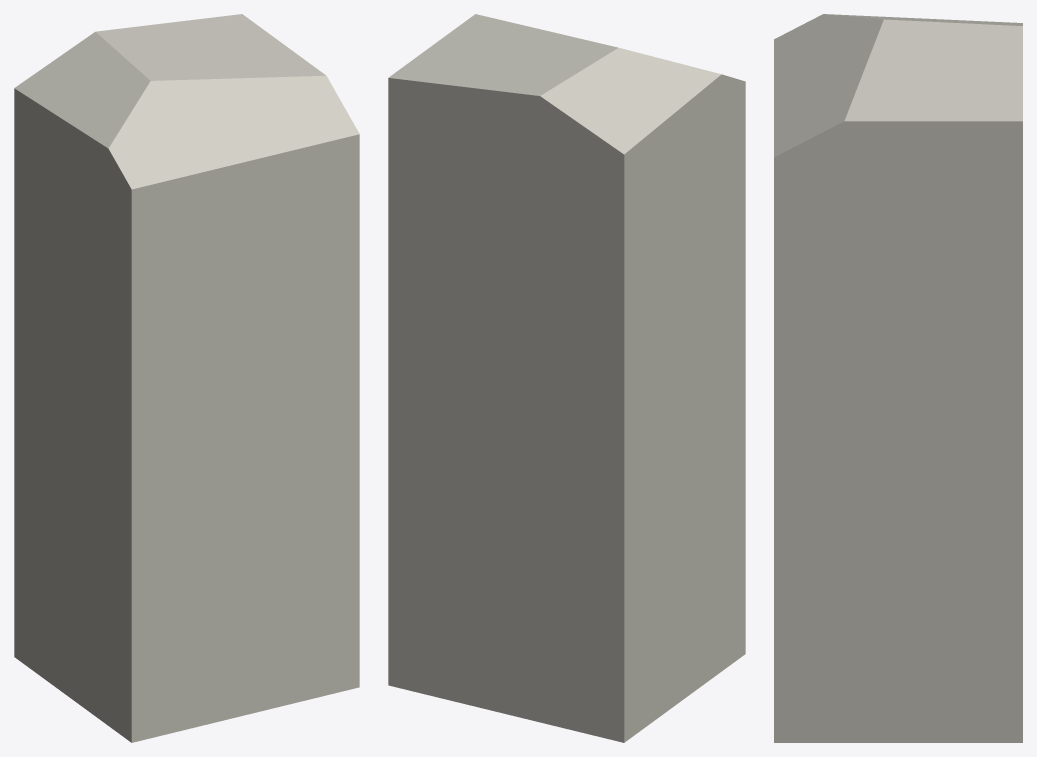
The model's file is Rock_Square_m_03.fbx.
3 views of the same model, side by side, from view 1: azimuth 30°, elevation 25°; view 2: azimuth 150°, elevation 25°; view 3: azimuth 270°, elevation 25° (orthographic). The views are drawn at different scales.
Visible parts, largest first — view 1: Rock_Square_m_03; view 2: Rock_Square_m_03; view 3: Rock_Square_m_03.
Boxes of the visible parts, box(x1,y1,x2,y2) form: Rock_Square_m_03: box(14, 14, 359, 742); Rock_Square_m_03: box(388, 14, 745, 742); Rock_Square_m_03: box(774, 14, 1022, 742).
Size of the model in its own units: 43.48 by 111 by 38.8.
